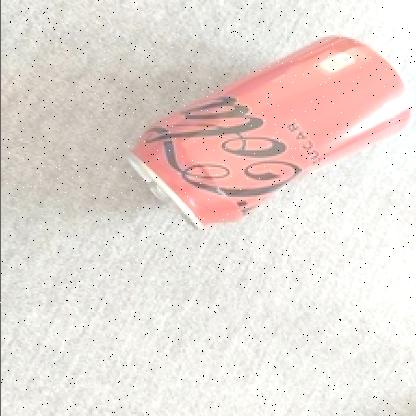Can: (125, 35, 412, 228)
